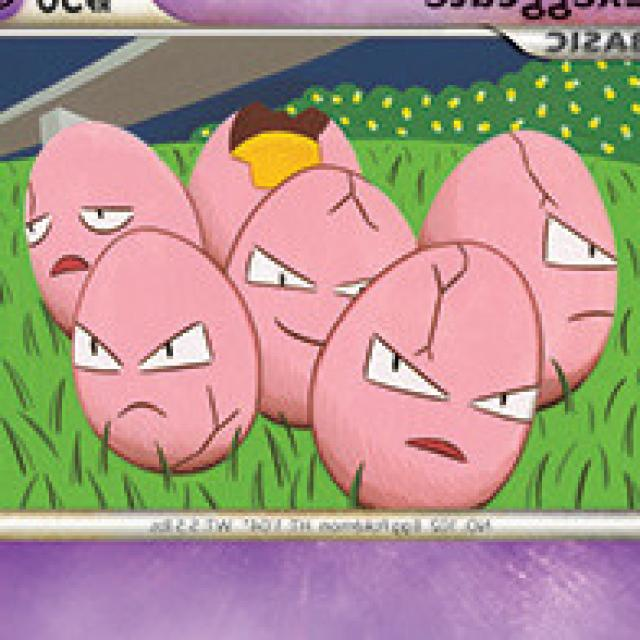Exeggcute: (21, 96, 623, 517)
